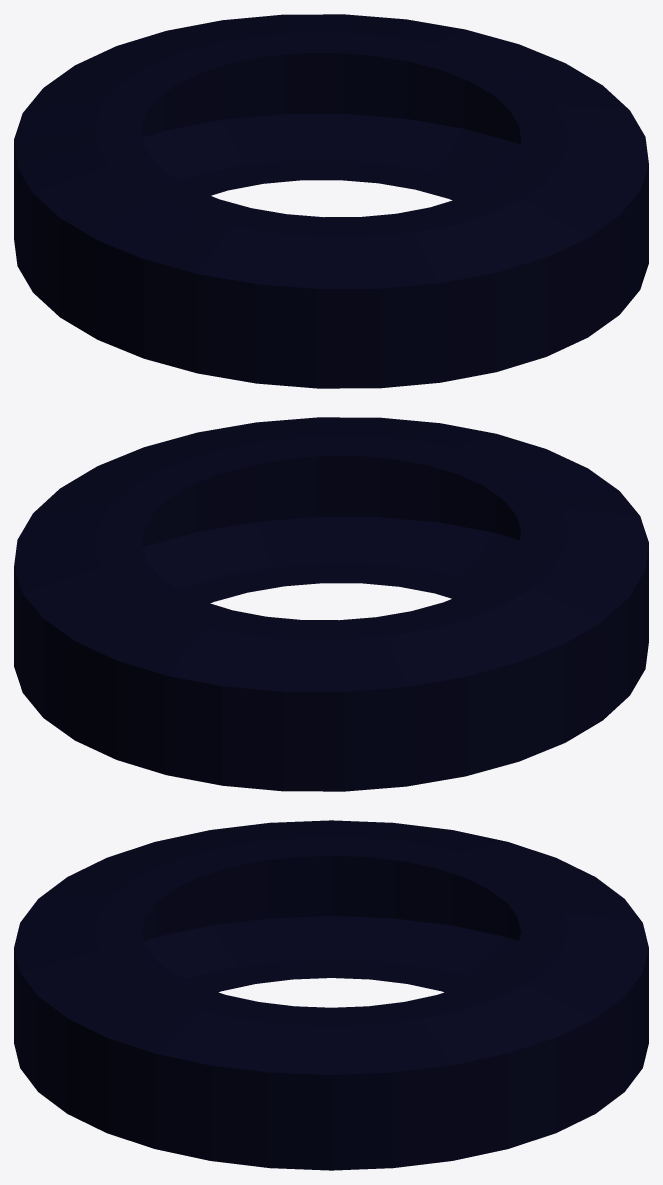
Rendered from NEUMATICO.fbx.
3 views of the same model, one above another, from view 1: azimuth 30°, elevation 25°; view 2: azimuth 150°, elevation 25°; view 3: azimuth 270°, elevation 25° (orthographic). The views are drawn at different scales.
Parts seen in each view (by area): view 1: Cylinder; view 2: Cylinder; view 3: Cylinder.
Boxes of the visible parts, box(x1,y1,x2,y2) form: Cylinder: box(14, 14, 648, 388); Cylinder: box(14, 417, 648, 791); Cylinder: box(14, 820, 648, 1170).
Bounding box in the file's own units: 263 × 60.62 × 277.
